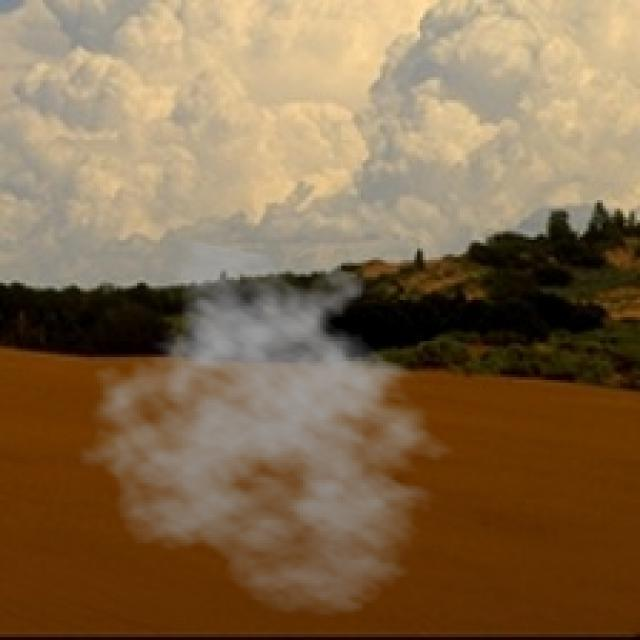Smoke: (74, 237, 472, 620)
